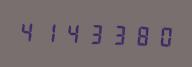eight: (127, 21, 148, 48)
four: (61, 18, 82, 46), (17, 17, 38, 44)
one: (39, 18, 60, 45)
three: (83, 19, 104, 47), (105, 20, 126, 48)
zero: (149, 21, 170, 49)
